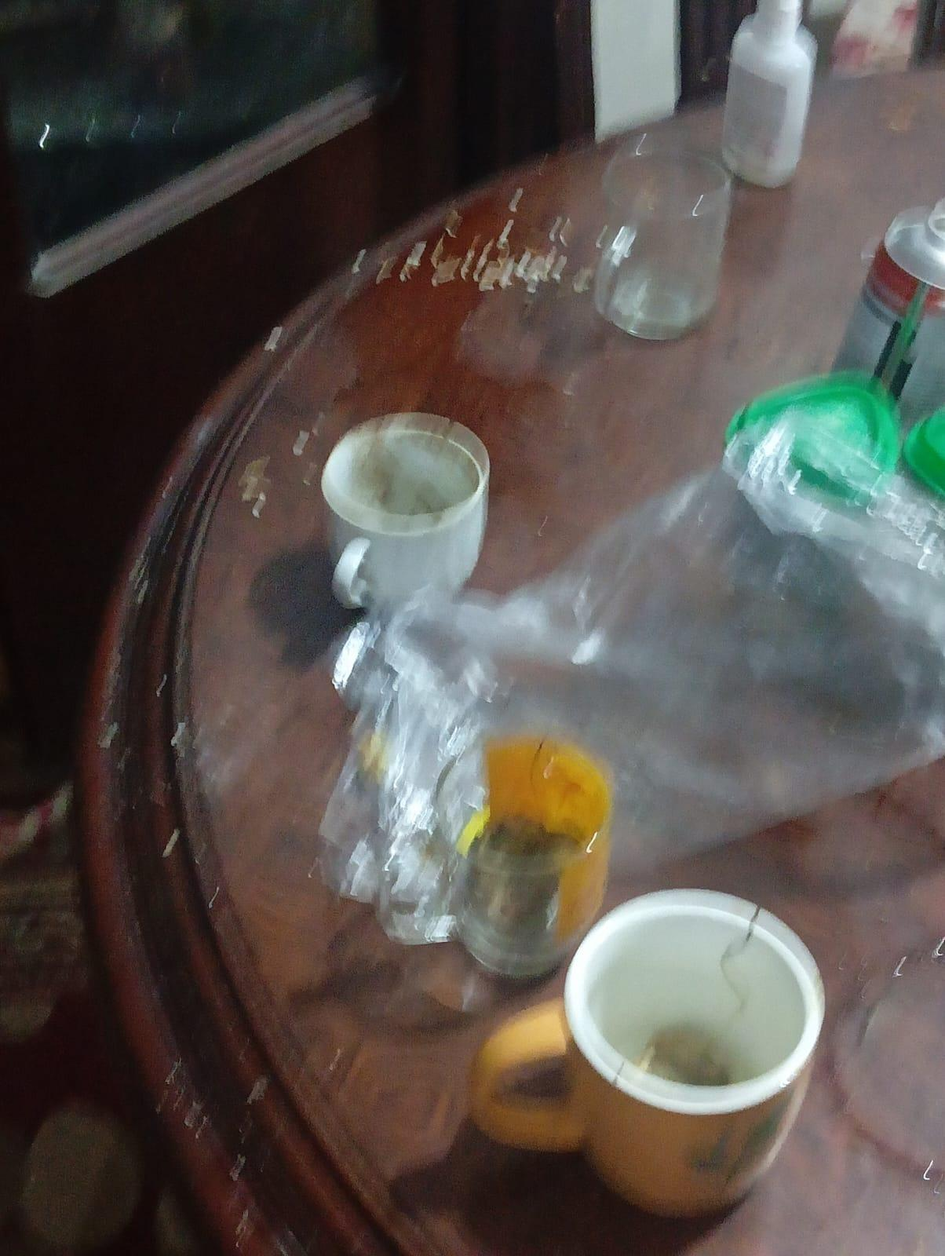cup: (471, 890, 823, 1215), (439, 736, 611, 977), (322, 413, 489, 605), (595, 137, 730, 339)
